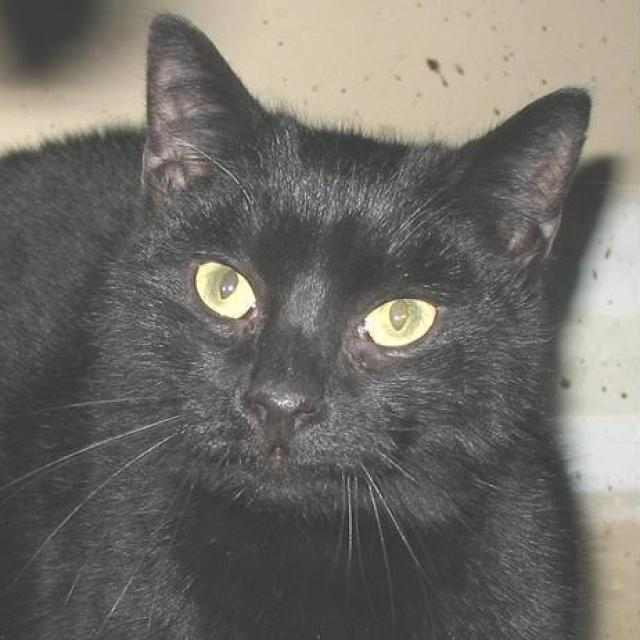cat: (0, 11, 601, 638)
